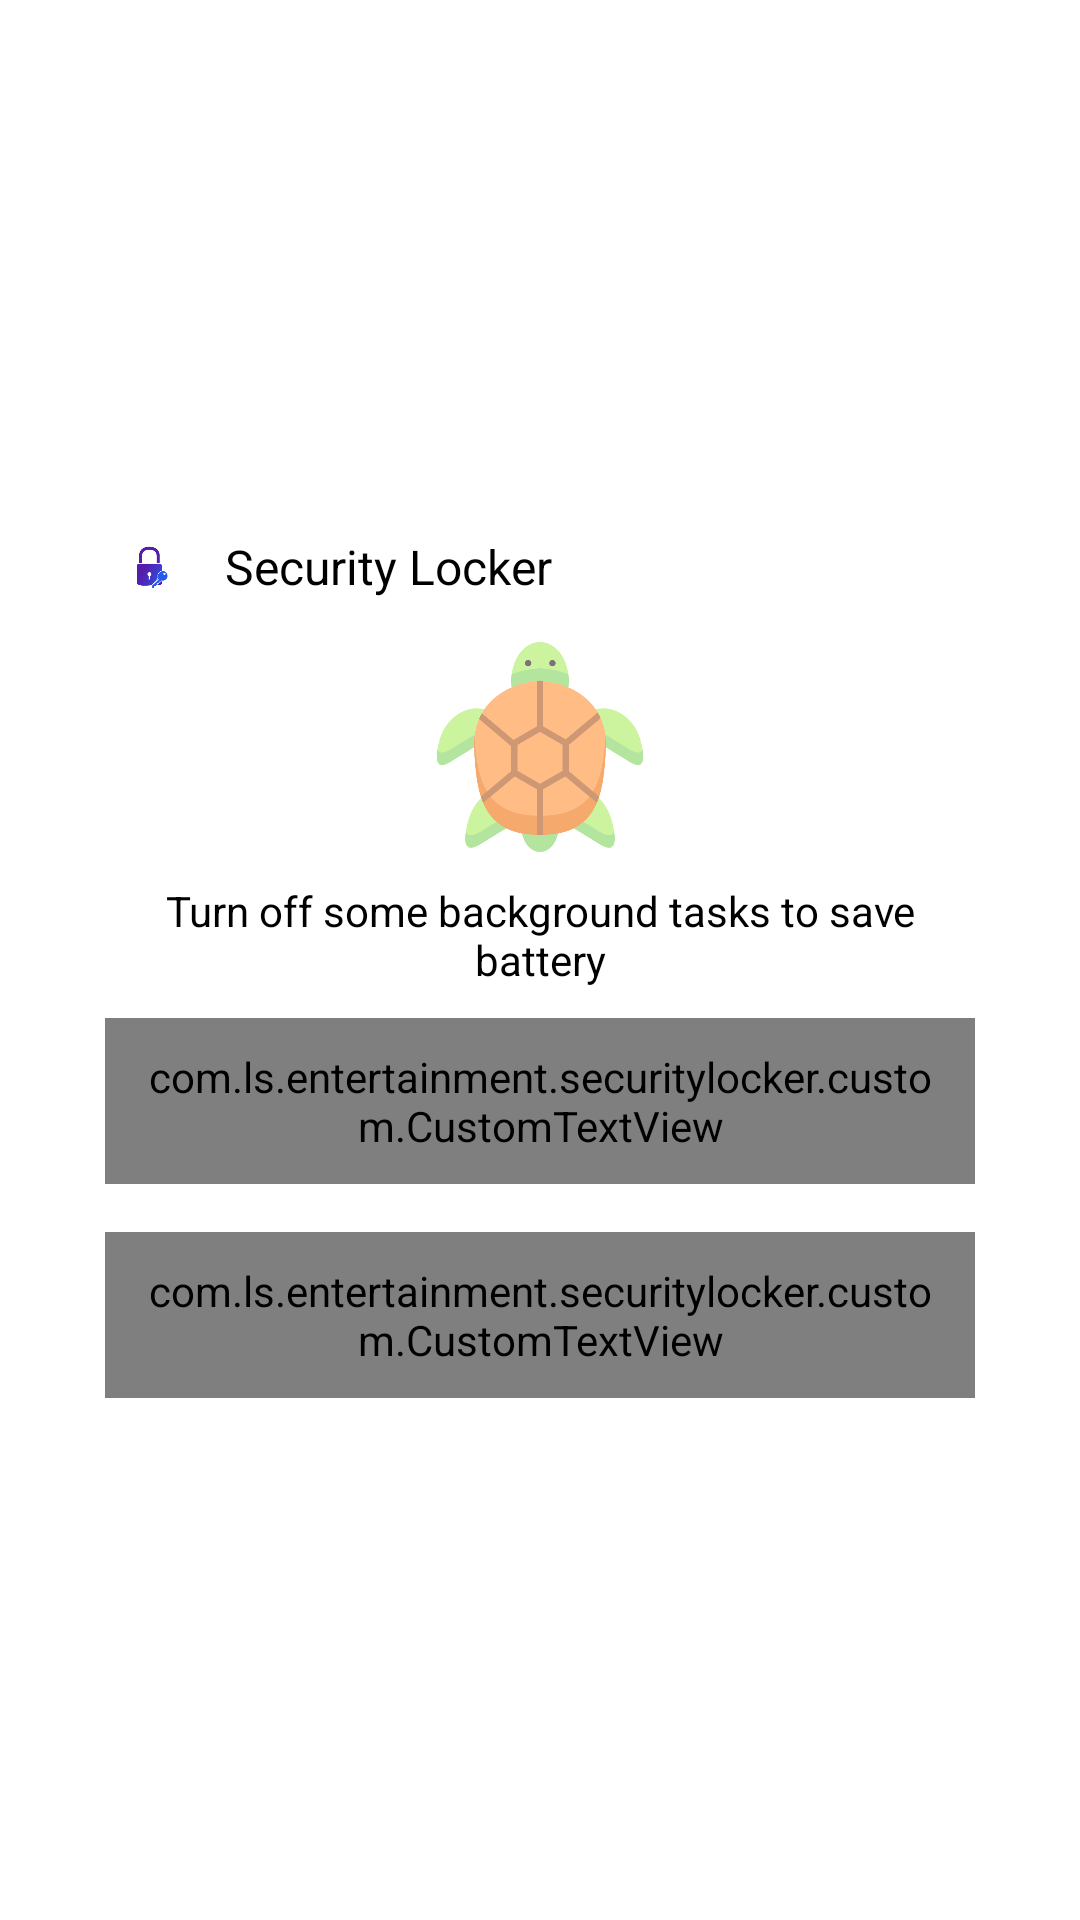

Icons on this 1080px×1920px Android screen, each with its box as [x1, y1, x2, y2]:
turtle: [437, 642, 643, 852]
